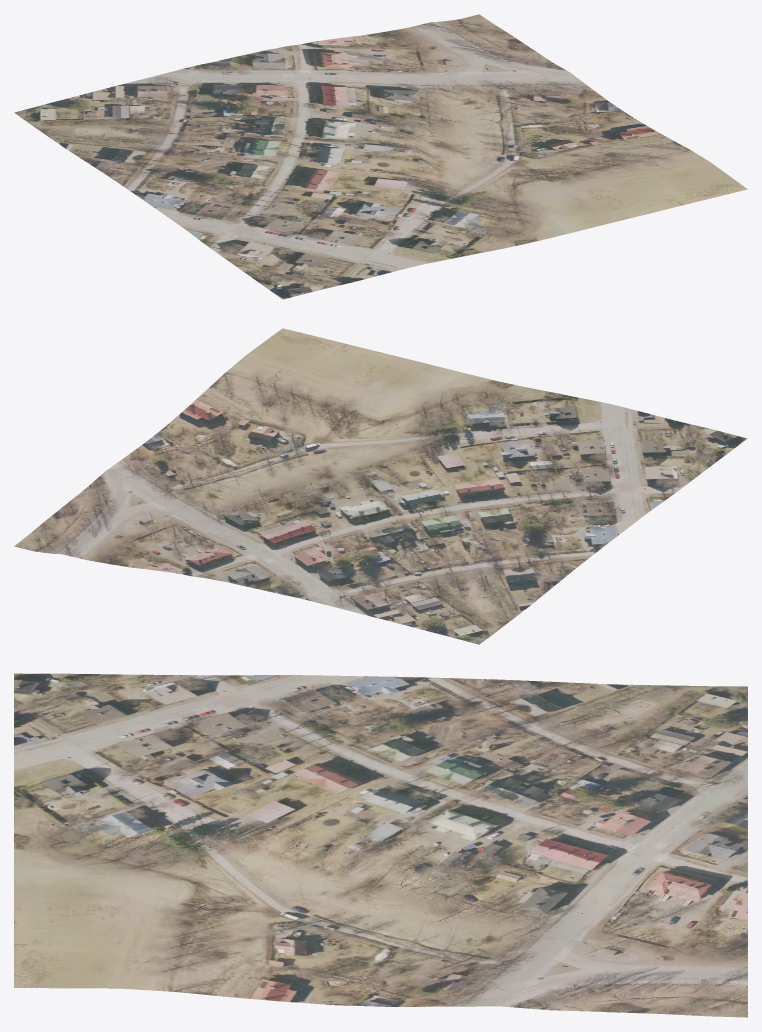
Rendered from CM_Terrain_24488410_6819794.fbx.
3 views of the same model, one above another, from view 1: azimuth 30°, elevation 25°; view 2: azimuth 150°, elevation 25°; view 3: azimuth 270°, elevation 25° (orthographic). The views are drawn at different scales.
Visible parts, largest first — view 1: CM_Terrain_24488410_6819794_LOD0; view 2: CM_Terrain_24488410_6819794_LOD0; view 3: CM_Terrain_24488410_6819794_LOD0.
Boxes of the visible parts, box(x1,y1,x2,y2) form: CM_Terrain_24488410_6819794_LOD0: box(14, 14, 747, 299); CM_Terrain_24488410_6819794_LOD0: box(14, 328, 747, 644); CM_Terrain_24488410_6819794_LOD0: box(14, 673, 747, 1017).
Size of what is drawn, in the model's own units: 205 by 10.9 by 205.
